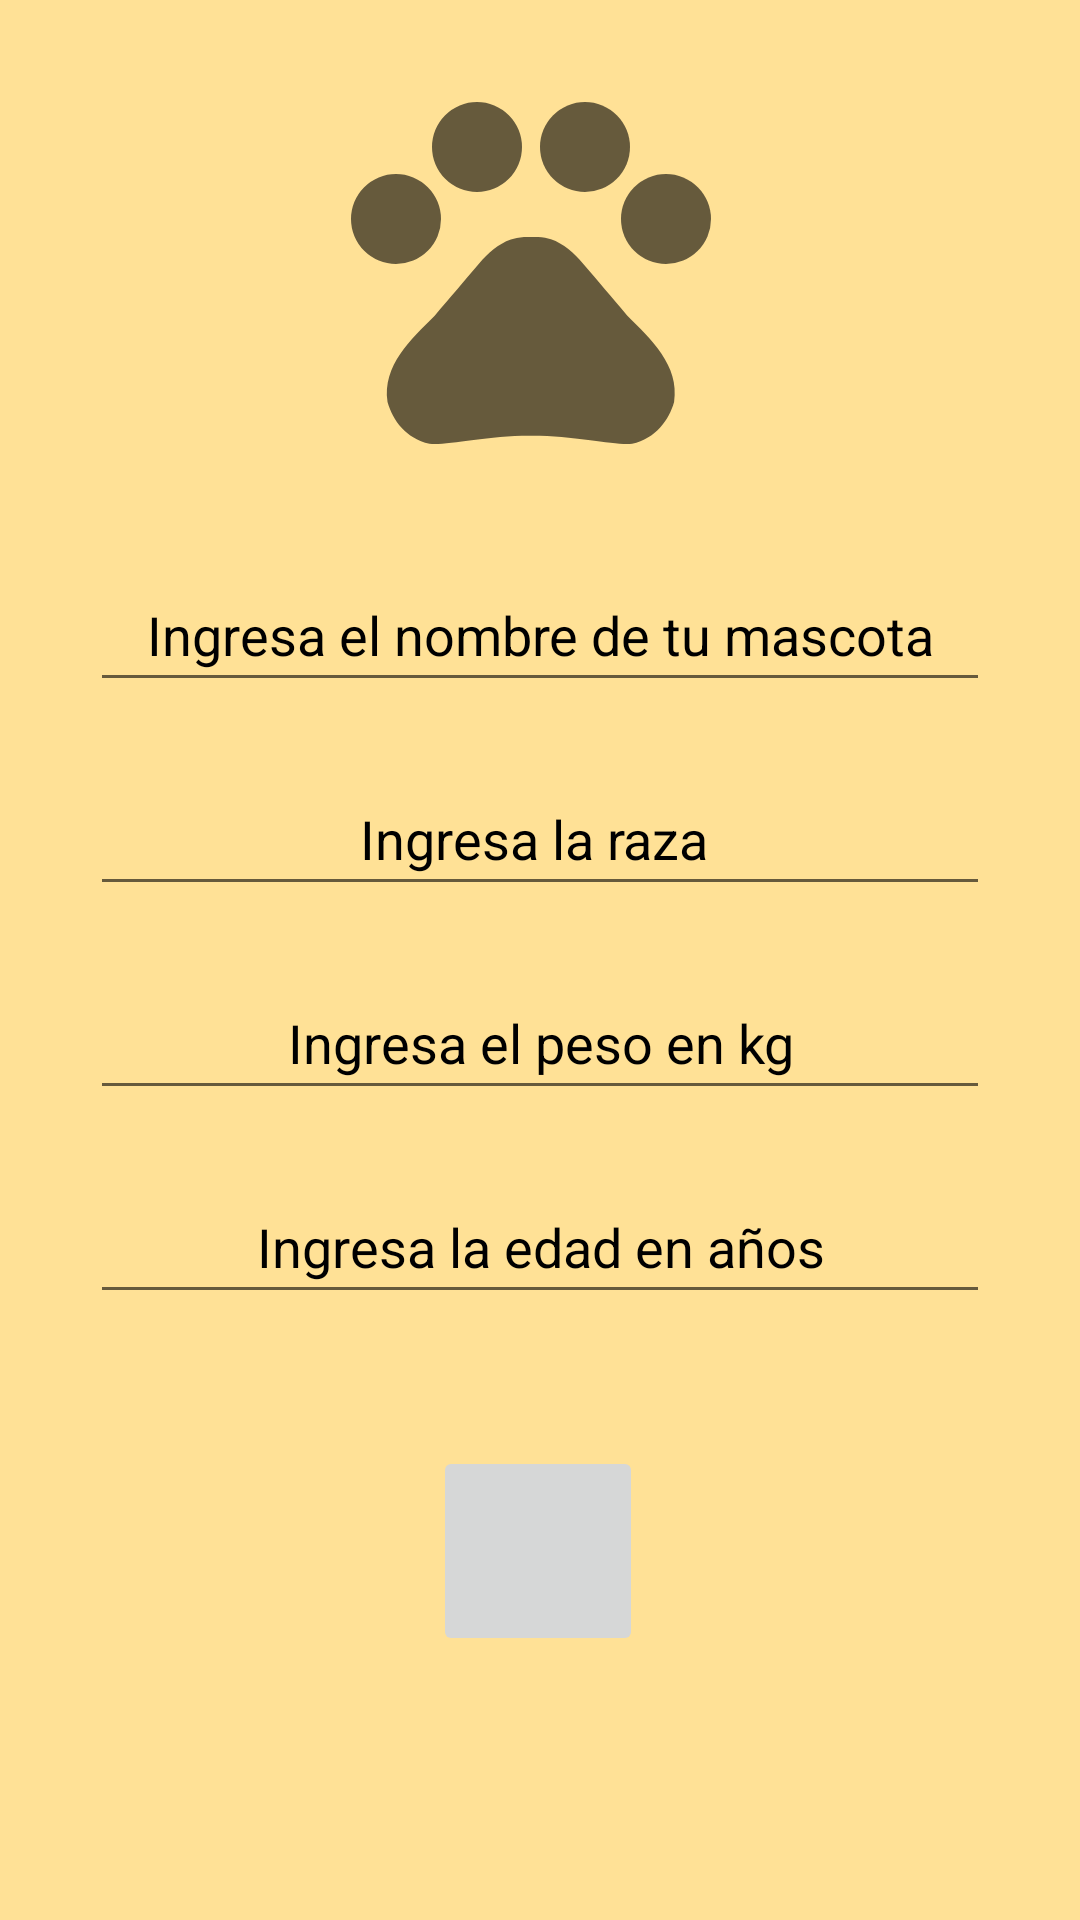

Point at icon controls on the screen. Image size 1080 × 1920, points as point (x, y).
pet patita: point (531, 273)
